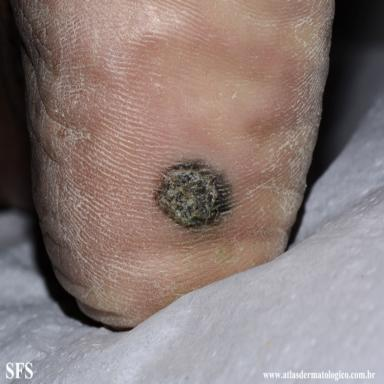Melanoma: (154, 160, 233, 229)
